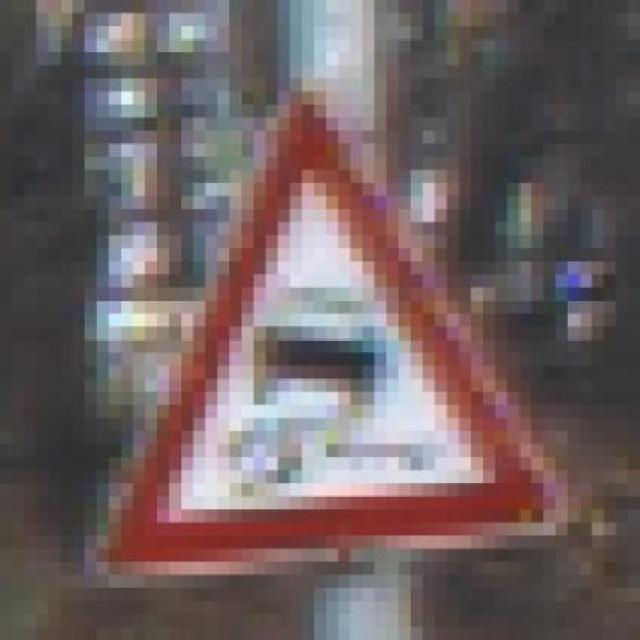Slippery Road Ahead: (85, 78, 580, 588)
